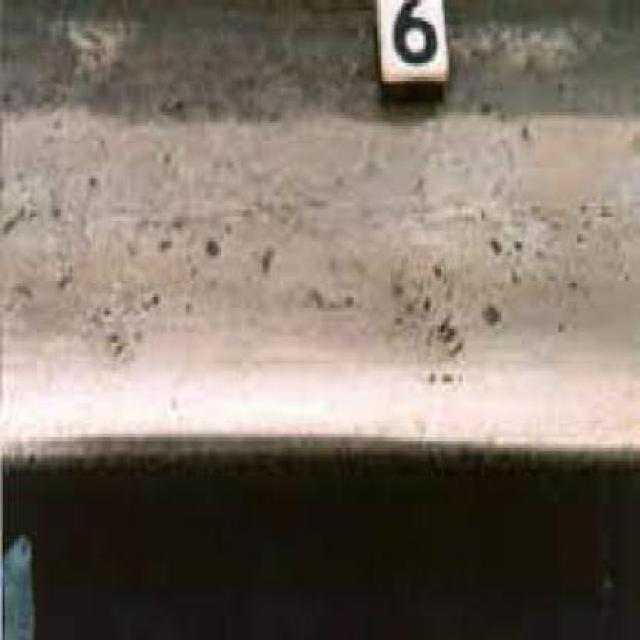defective: (1, 1, 640, 572)
